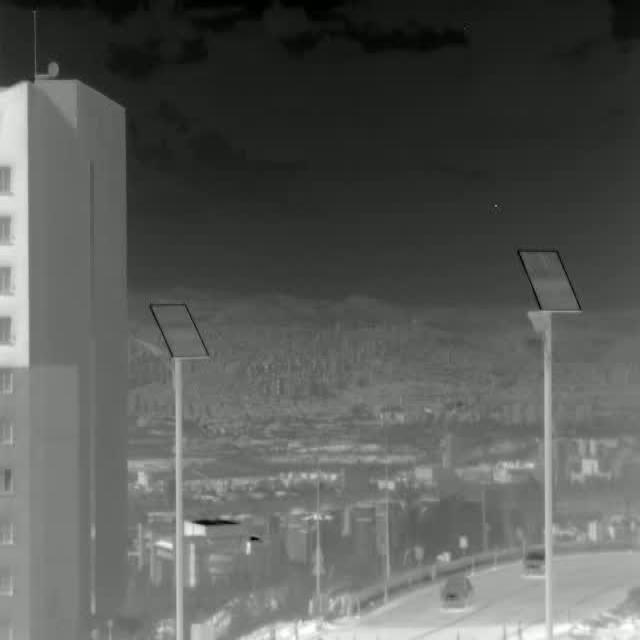Car: (440, 576, 474, 612), (520, 544, 546, 576)
